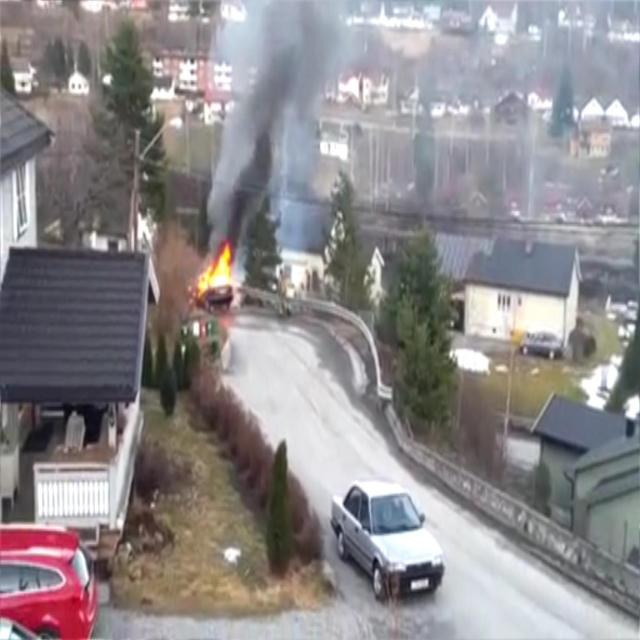fire: (198, 248, 232, 296)
smoke: (204, 0, 354, 252)
